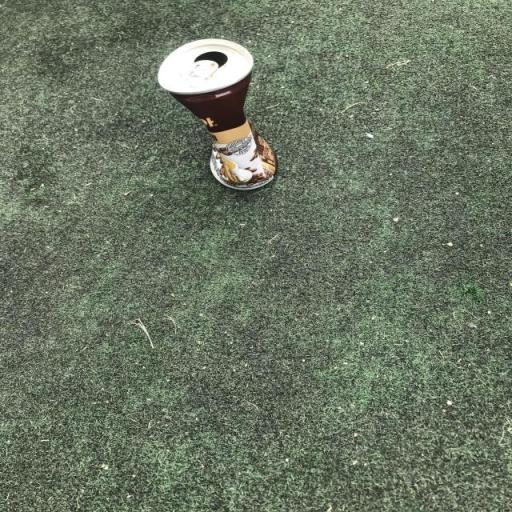metal: (122, 16, 318, 214)
